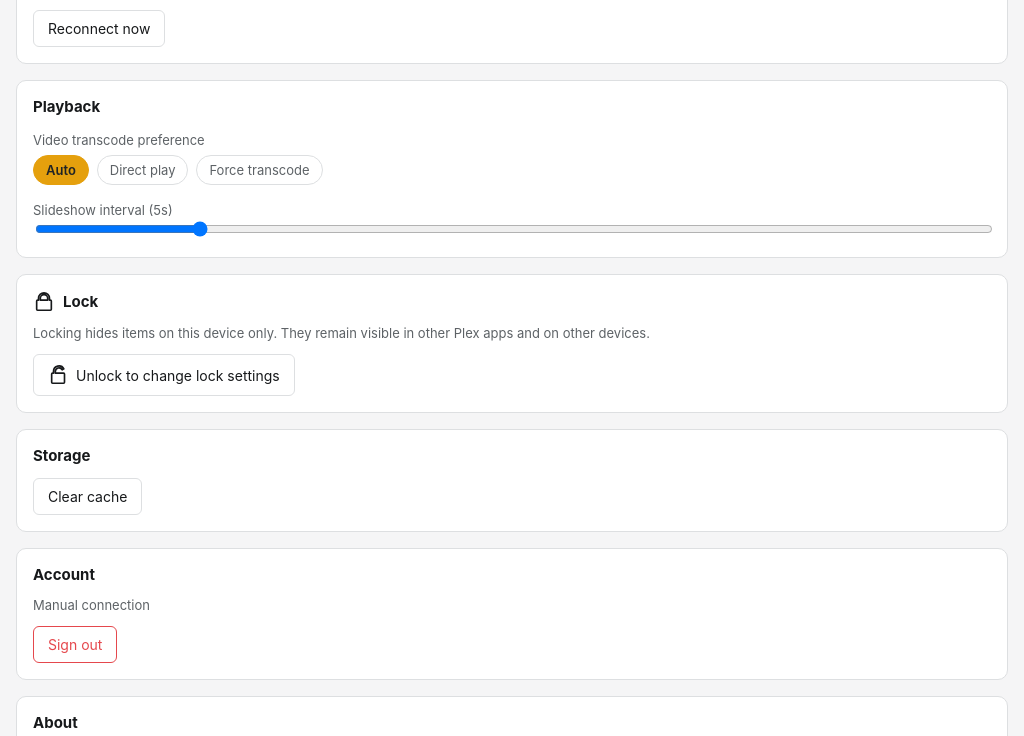
Settings lock section › asks for the passcode, then for confirmation, before removing it
The image size is (1024, 736).
(page scrolled)
Expected: the button "Remove passcode" is not shown
Click the button "Unlock to change lock settings".
click(164, 375)  # box [33,354,295,396]
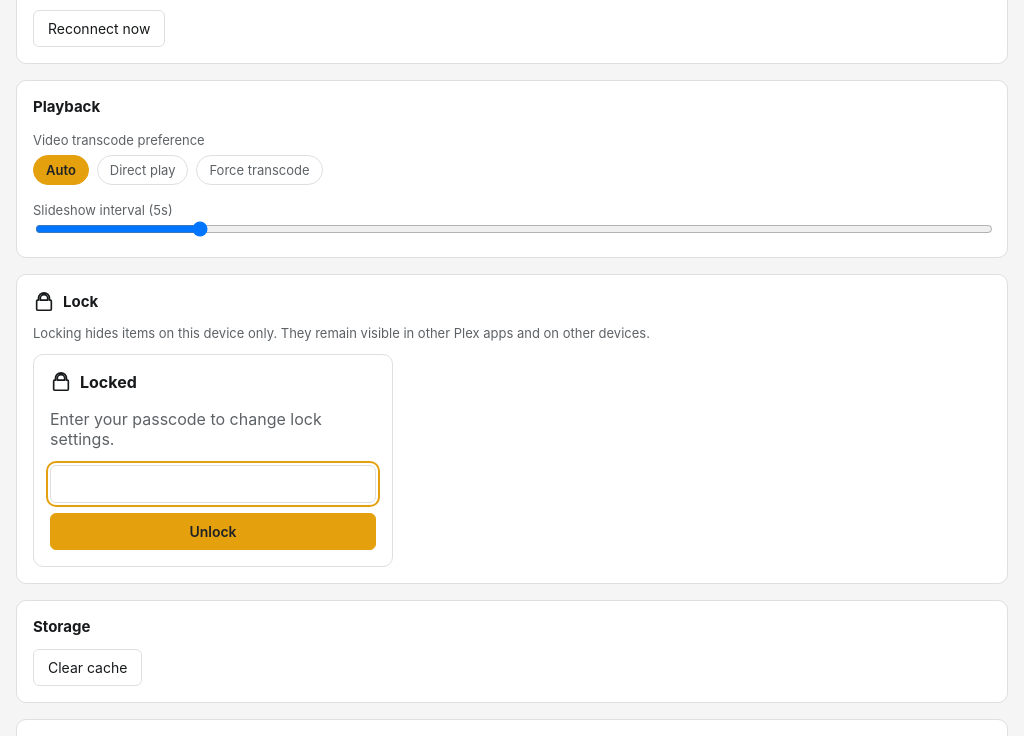
Type "1234" into the password field named "Passcode".
click(213, 484); type("1234")  # box [50,465,376,503]
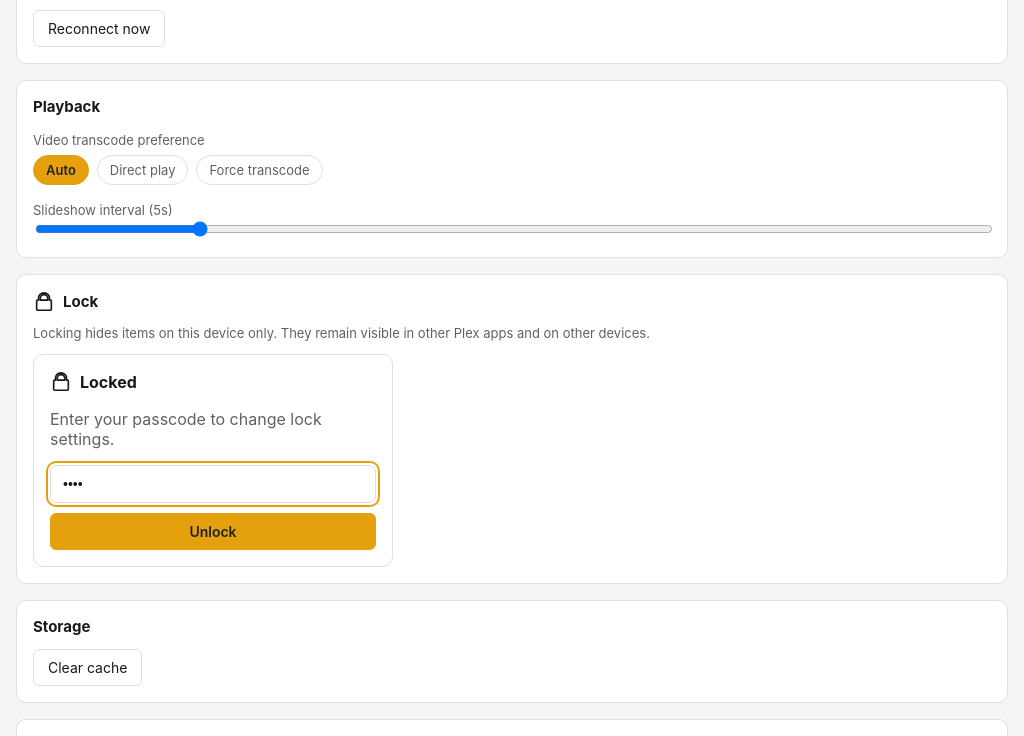
Click the button "Unlock".
click(213, 532)  # box [50,513,376,550]
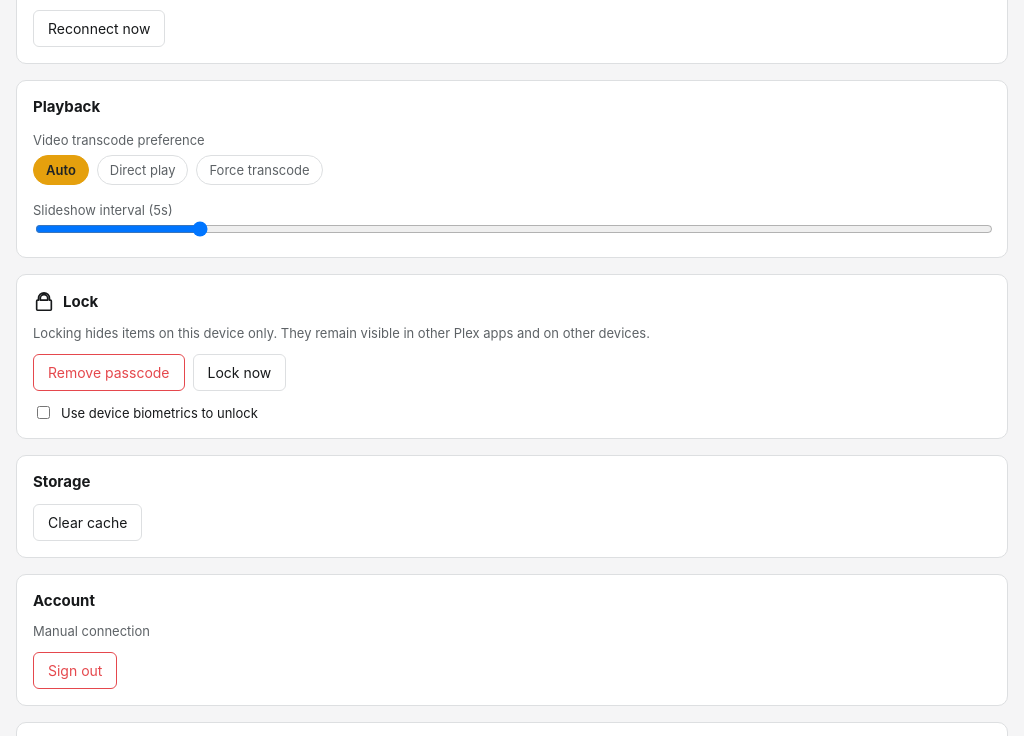
Click the button "Remove passcode".
click(109, 373)  # box [33,354,184,391]
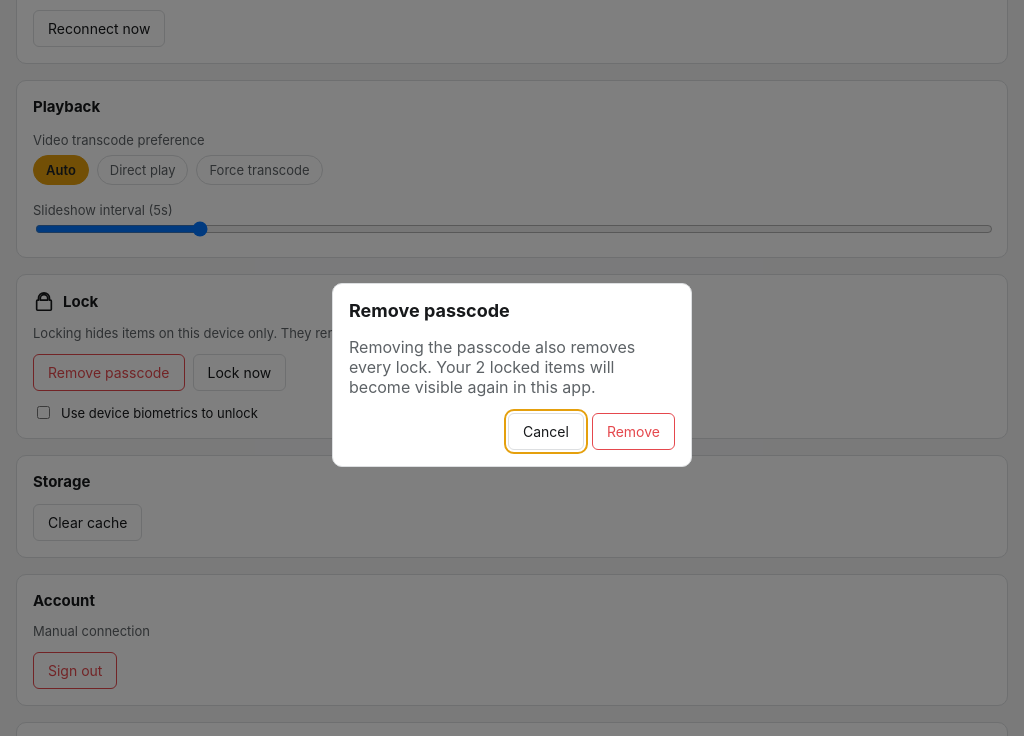
Now the dialog shows "2 locked items will become visible again", box [349,337,635,397]
Click the button "Remove".
click(633, 432)  # box [592,413,675,450]
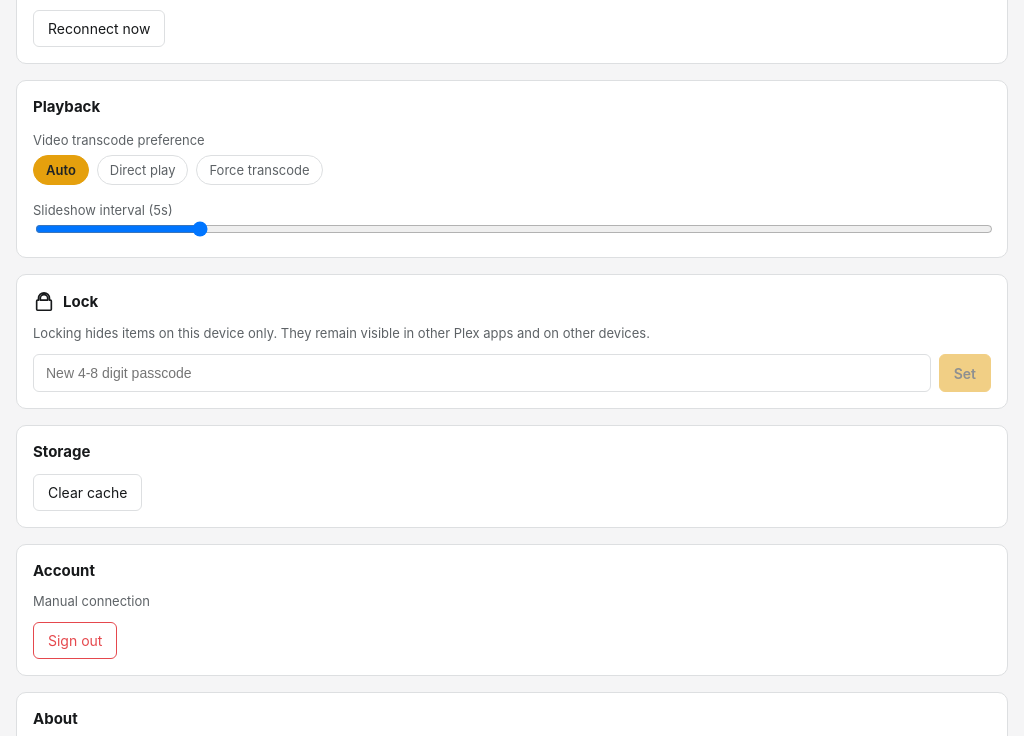
Now the password field named "New passcode" is shown, box [33,354,931,392]
